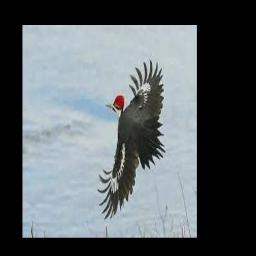Woodpecker: (97, 58, 165, 219)
